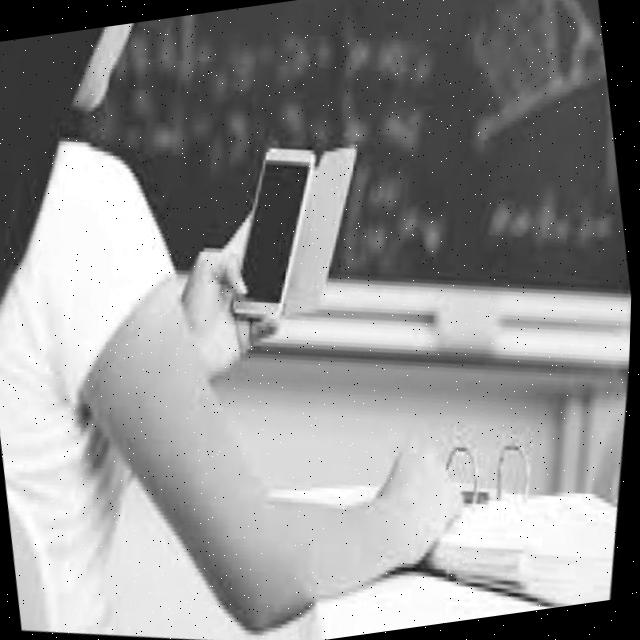phone: (210, 133, 344, 334)
